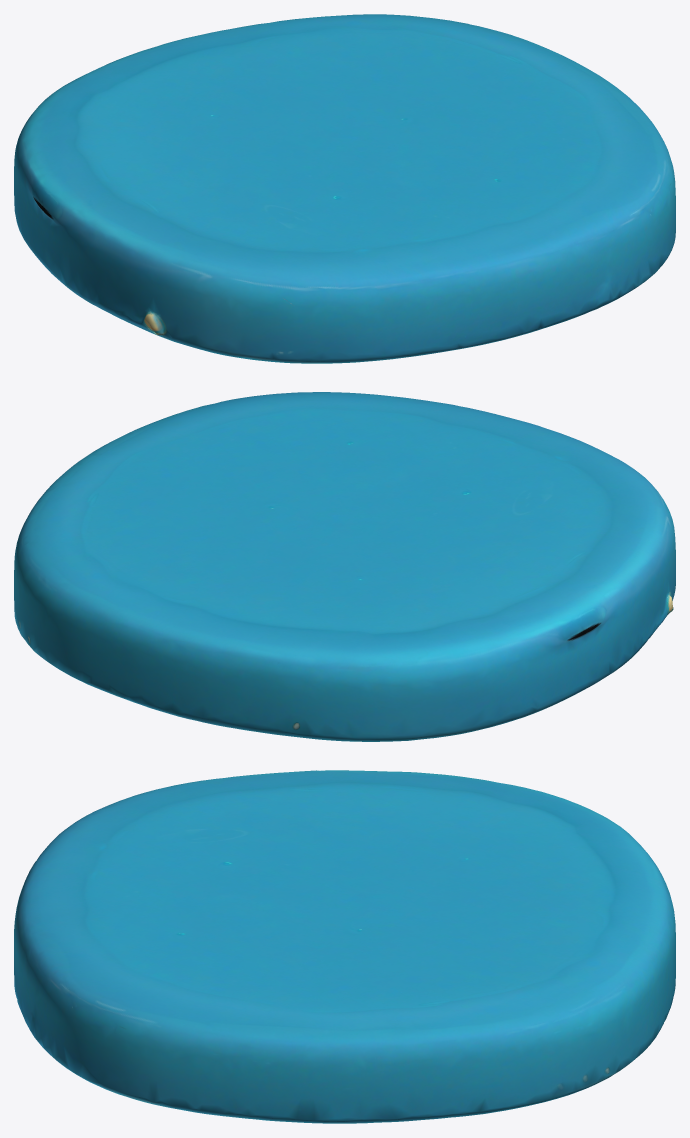
The model's file is water.glb.
3 renders of one model, top to bottom at view 1: azimuth 30°, elevation 25°; view 2: azimuth 150°, elevation 25°; view 3: azimuth 270°, elevation 25°, orthographic. The views are drawn at different scales.
Size of the model in its own units: 2.01 by 0.3312 by 2.01.
Materials: 1 (1 with a texture image).
